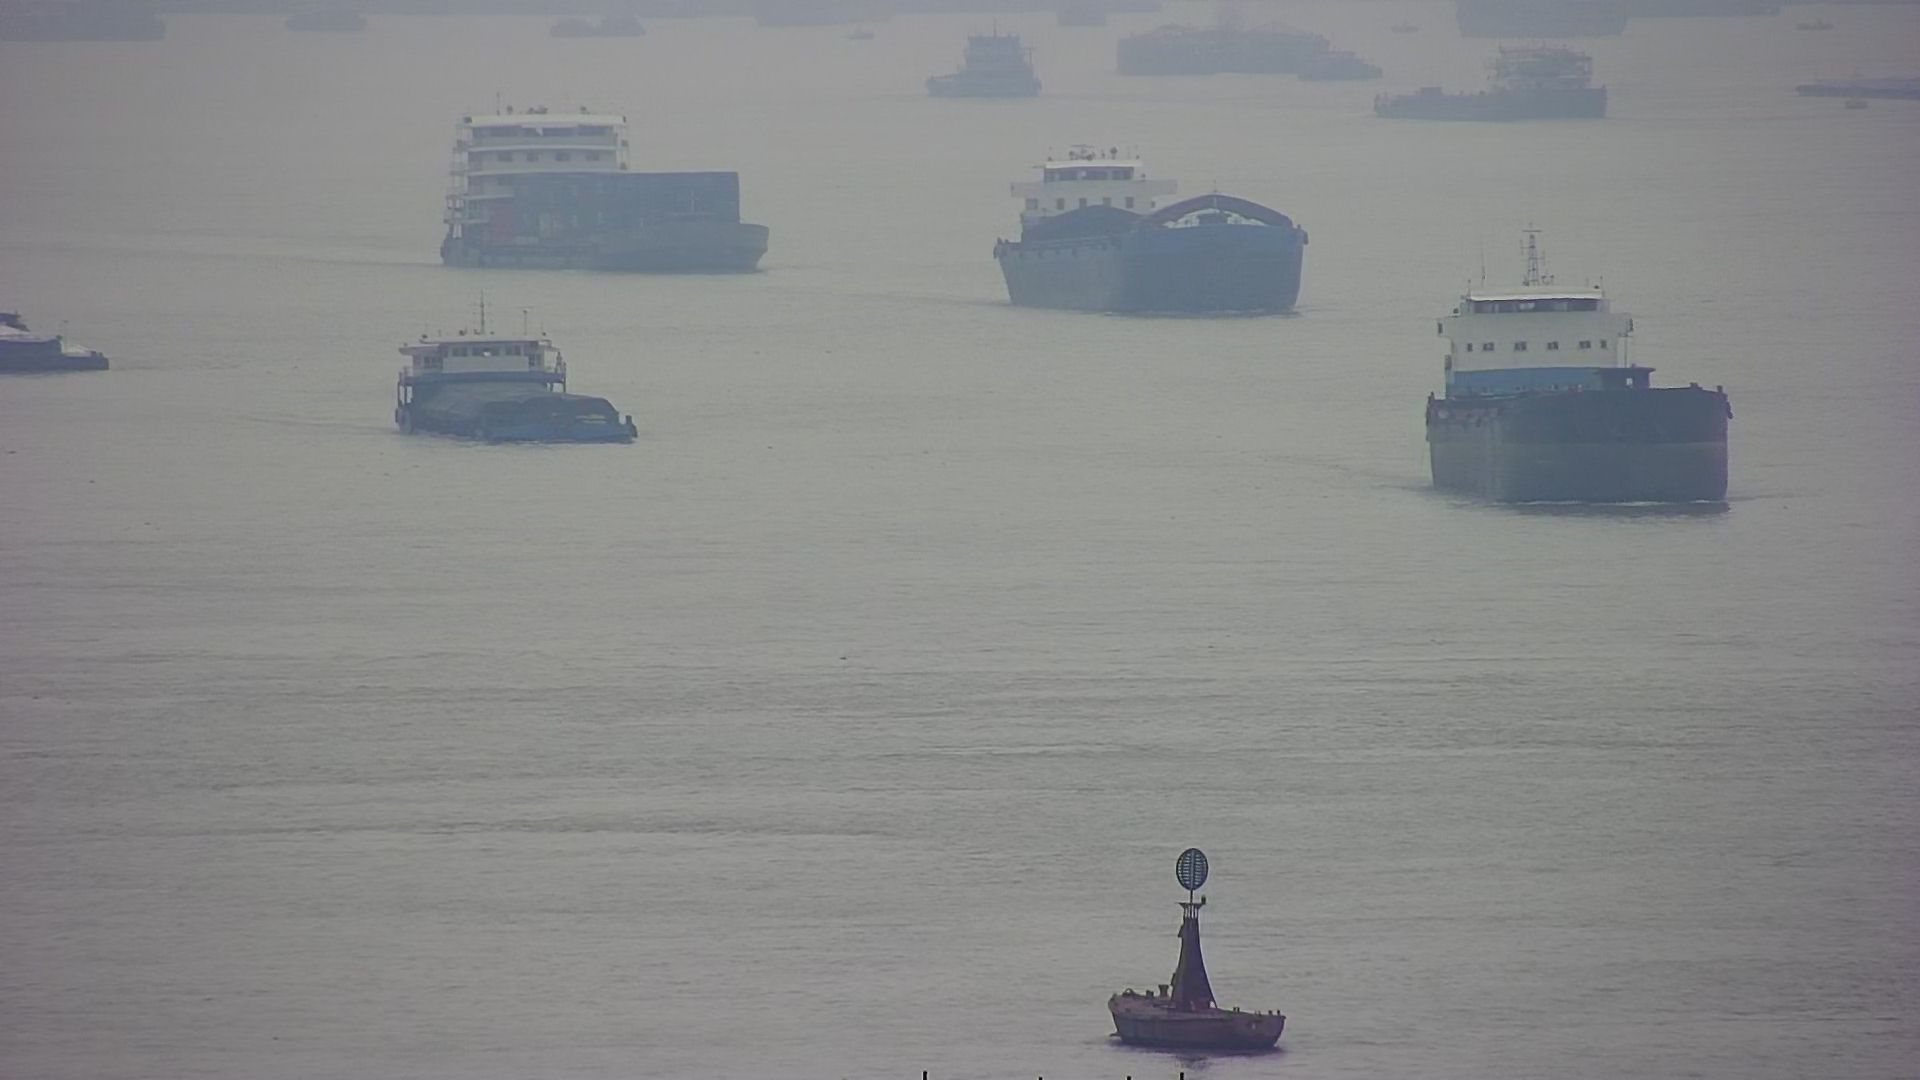boat: (1108, 836, 1286, 1054)
ship: (1423, 255, 1739, 510), (435, 108, 771, 277), (982, 146, 1305, 322), (386, 314, 636, 450), (1, 309, 107, 377)
